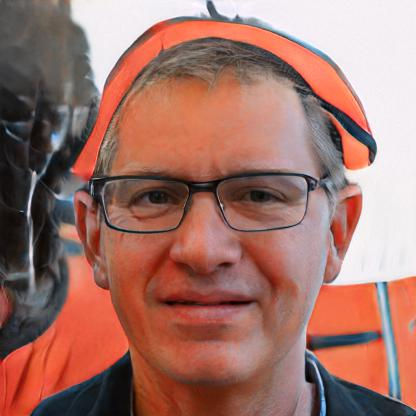glasses: (86, 172, 322, 235)
